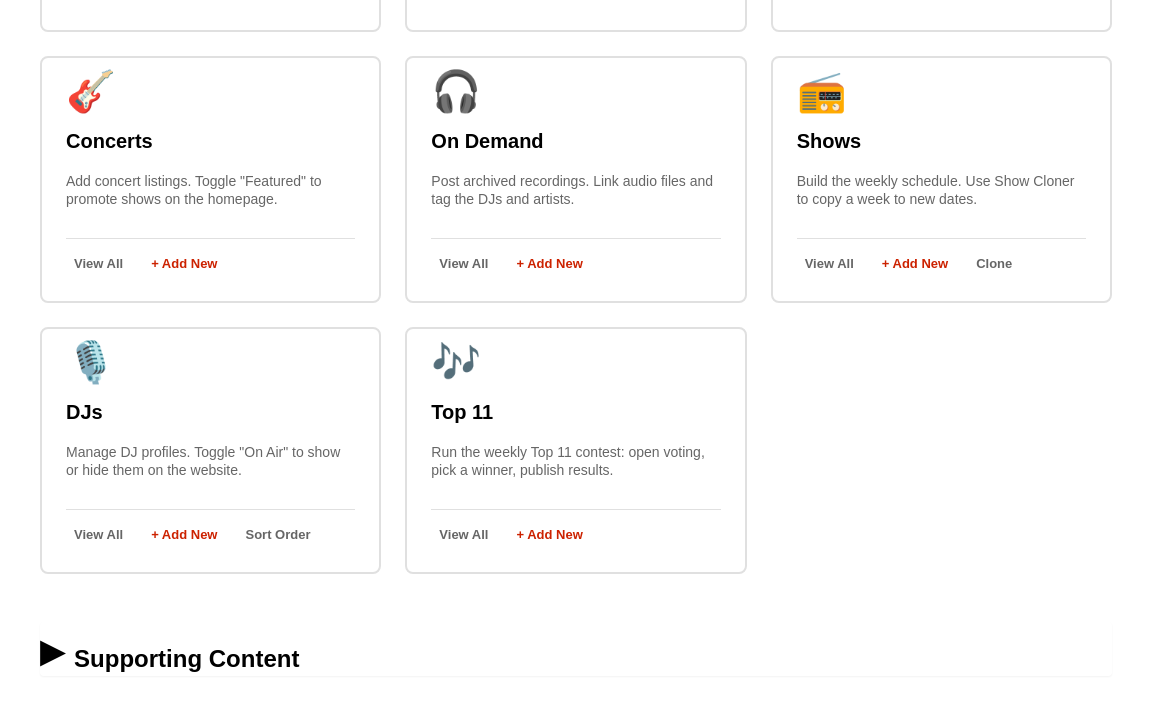
Test: CustomDashboard › secondary collections accordion › applies correct CSS classes to secondary cards when expanded
(page scrolled)
Click the button "▸ Supporting Content".
click(187, 659)  # box x1=40 y1=622 x2=1112 y2=676
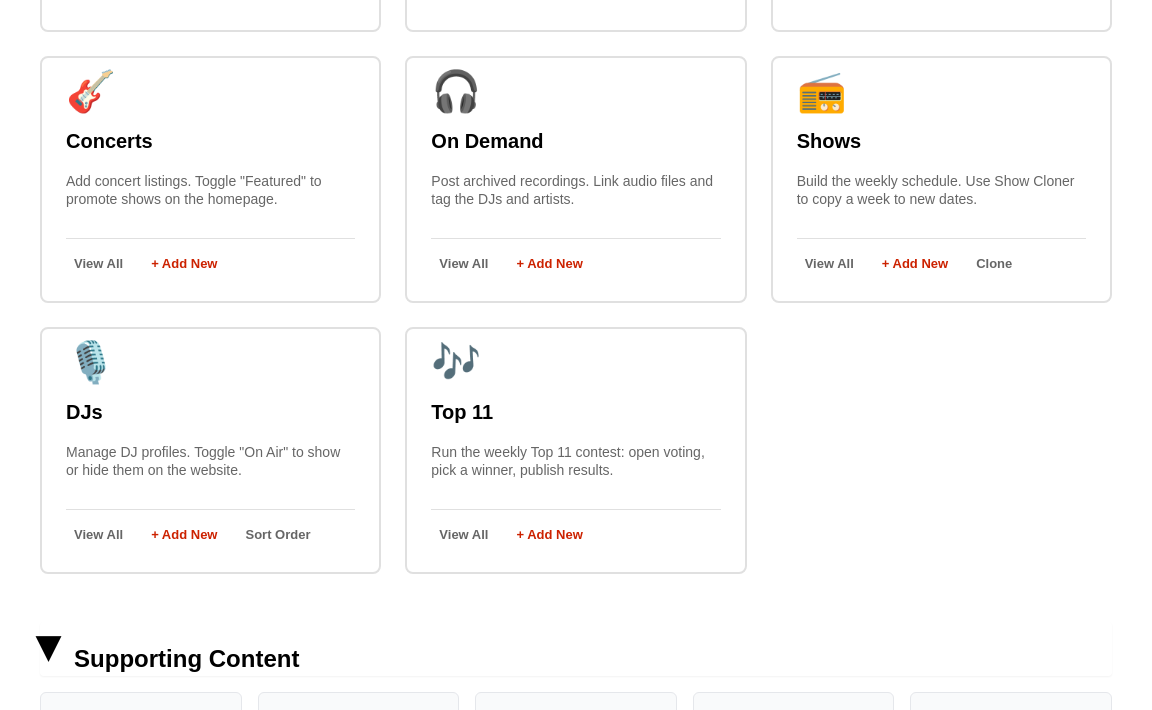
expect the number of links with class "secondary-card" is 6: met
